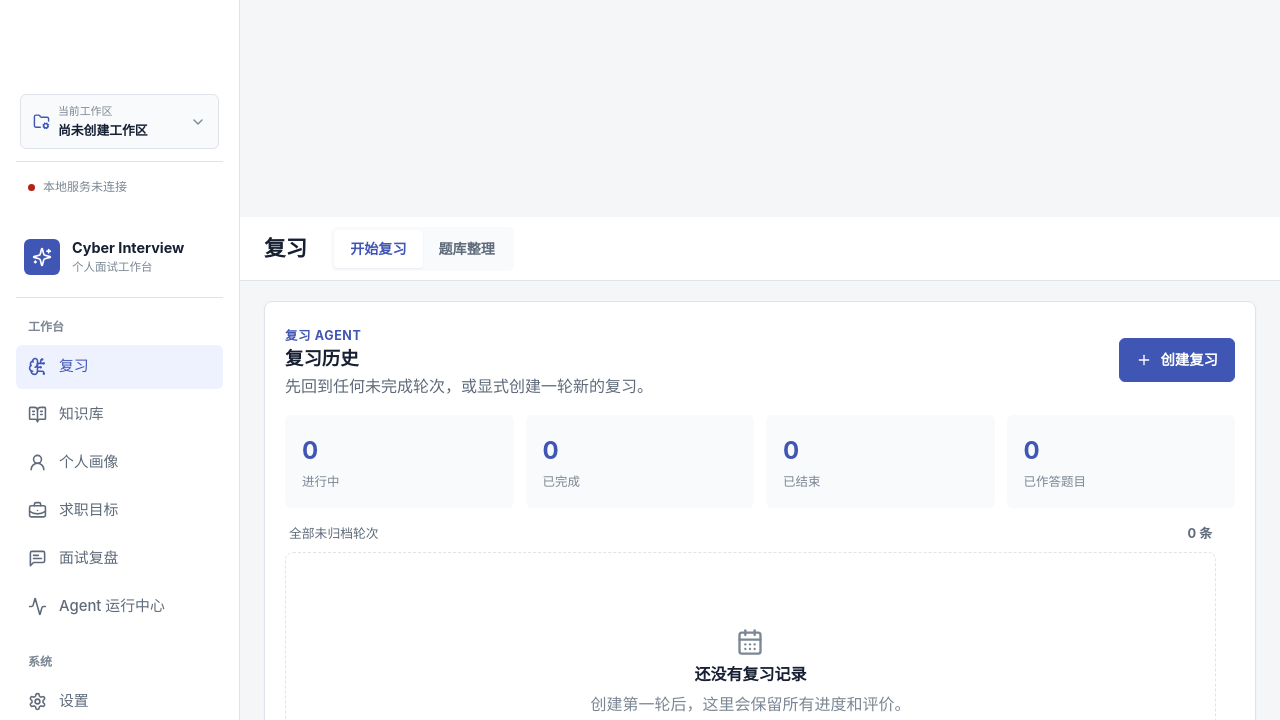
App › shows the R2 review history-first landing and setup for a ready workspace
(page scrolled)
expect the heading "复习历史" is shown: met, box [285,347,359,369]
expect the button "题库整理" is shown: met, box [422,230,511,268]
explicit create reveals the setup form with the available question count
Click the button "创建复习" at (1177, 360), box [1119,338,1235,382]
(page scrolled)
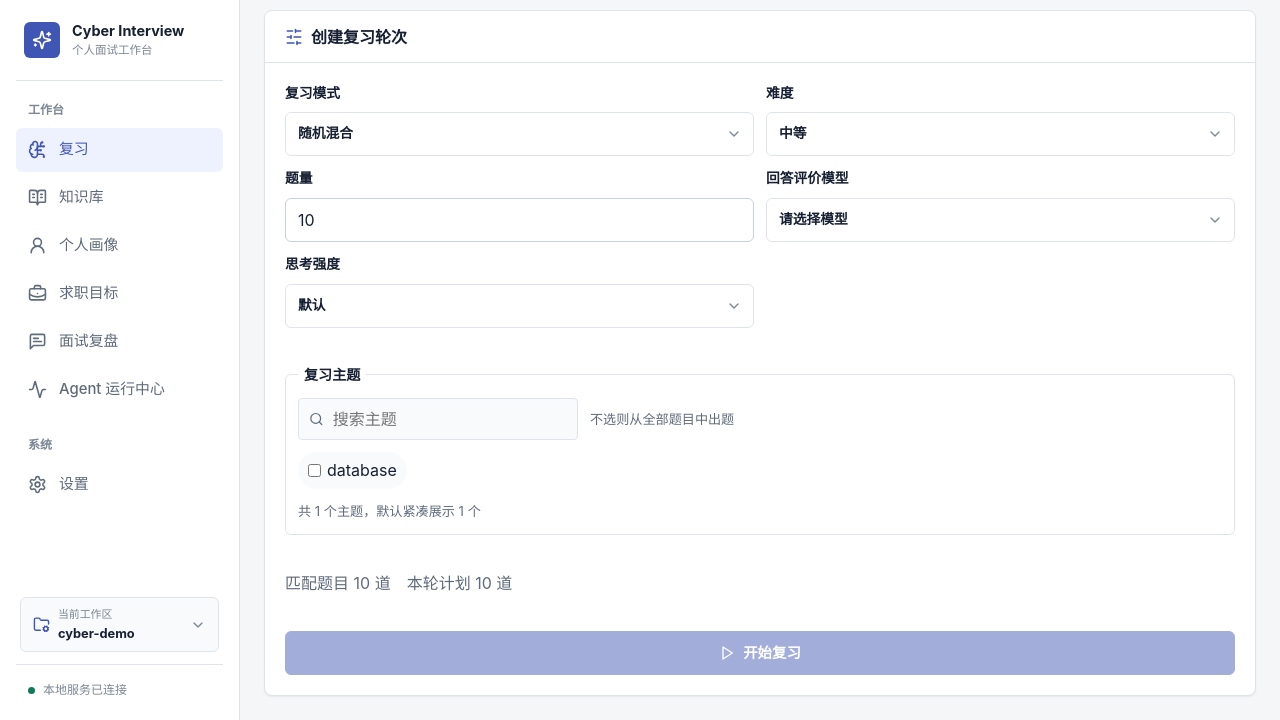
expect the heading "创建复习轮次" is shown: met, box [311,26,407,46]
expect the text "匹配题目 10 道" is shown: met, box [285,570,391,595]
